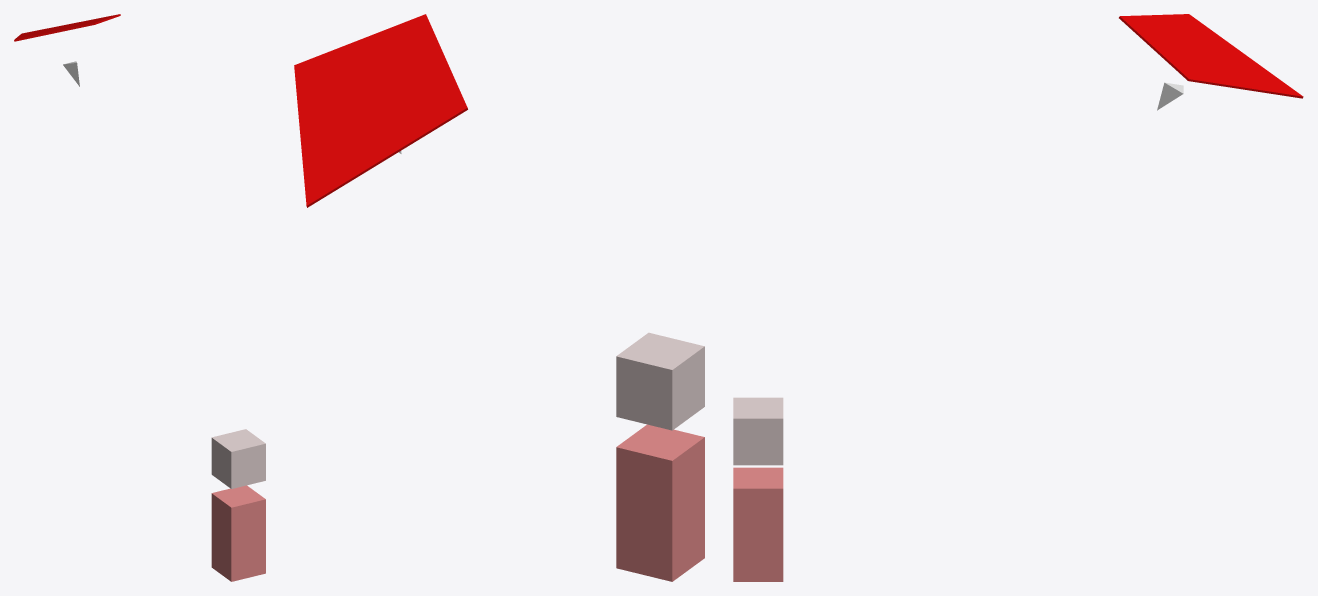
Rendered from KiteKid.fbx.
The picture shows the model from 3 angles, left to right: view 1: azimuth 30°, elevation 25°; view 2: azimuth 150°, elevation 25°; view 3: azimuth 270°, elevation 25°; orthographic projection. The views are drawn at different scales.
Visible parts, largest first — view 1: KiteKidMesh, Kitebody; view 2: KiteKidMesh, Kitebody; view 3: KiteKidMesh, Kitebody.
Boxes of the visible parts, x1,y1,x2,y2 form: KiteKidMesh: (211, 429, 265, 581); Kitebody: (14, 14, 120, 41); KiteKidMesh: (616, 332, 704, 581); Kitebody: (294, 14, 467, 207); KiteKidMesh: (733, 397, 783, 581); Kitebody: (1119, 14, 1303, 98).
Size of the model in its own units: 92.53 by 367 by 342.
